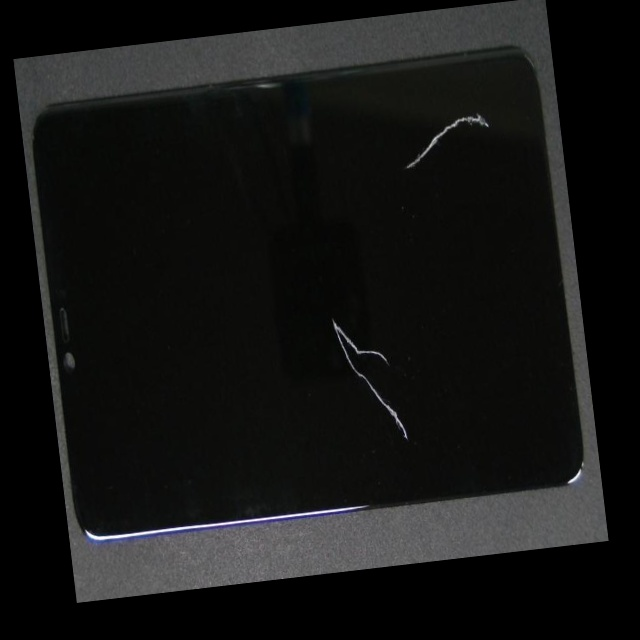scratch: (267, 282, 589, 577), (257, 70, 567, 217)
